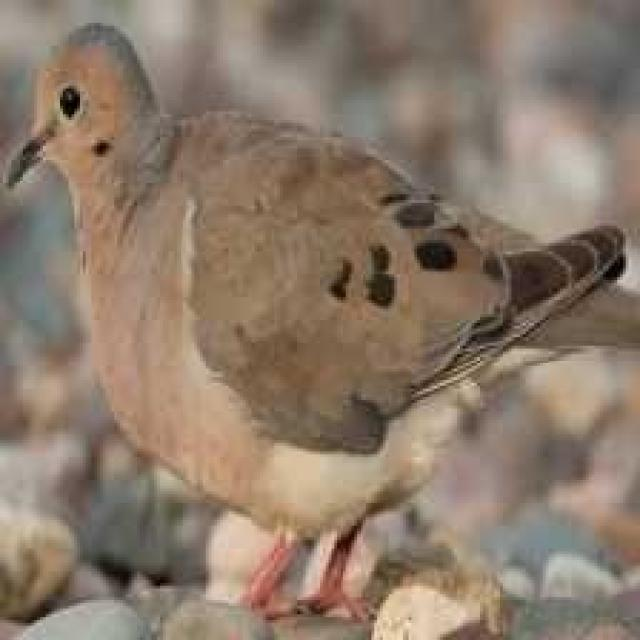dove: (0, 19, 640, 626)
